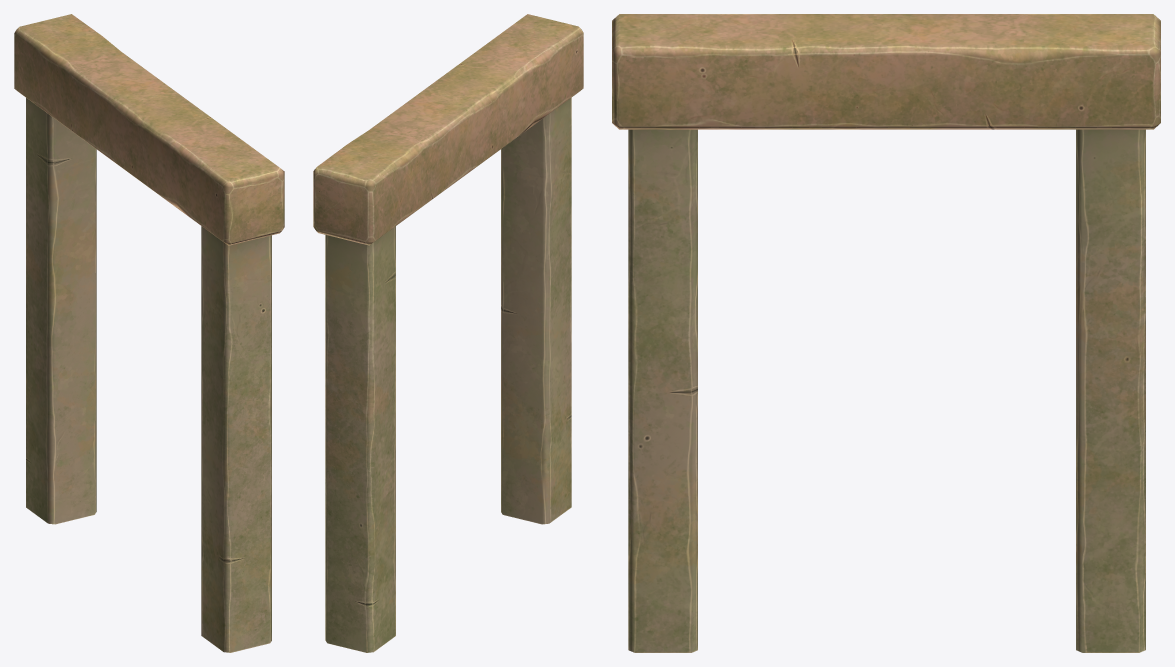
Rendered from SM_Tower_Door_Frame.fbx.
The picture shows the model from 3 angles, left to right: view 1: azimuth 30°, elevation 25°; view 2: azimuth 150°, elevation 25°; view 3: azimuth 270°, elevation 25°; orthographic projection. The views are drawn at different scales.
Visible parts, largest first — view 1: SM_Tower_Door_Frame_LOD0; view 2: SM_Tower_Door_Frame_LOD0; view 3: SM_Tower_Door_Frame_LOD0.
Boxes of the visible parts, left/top/right/bottom form: SM_Tower_Door_Frame_LOD0: left=14, top=14, right=284, bottom=652; SM_Tower_Door_Frame_LOD0: left=313, top=14, right=583, bottom=652; SM_Tower_Door_Frame_LOD0: left=612, top=14, right=1160, bottom=652.
Bounding box in the file's own units: 40.62 × 247 × 302.
Materials: 1 (1 with a texture image).
